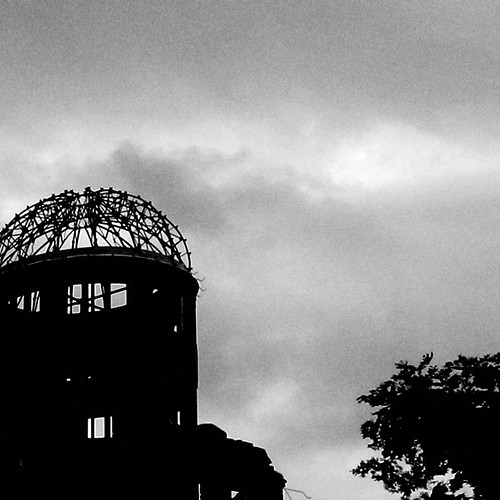building: (1, 187, 278, 500)
sky: (3, 4, 495, 381)
tree: (334, 352, 500, 500)
